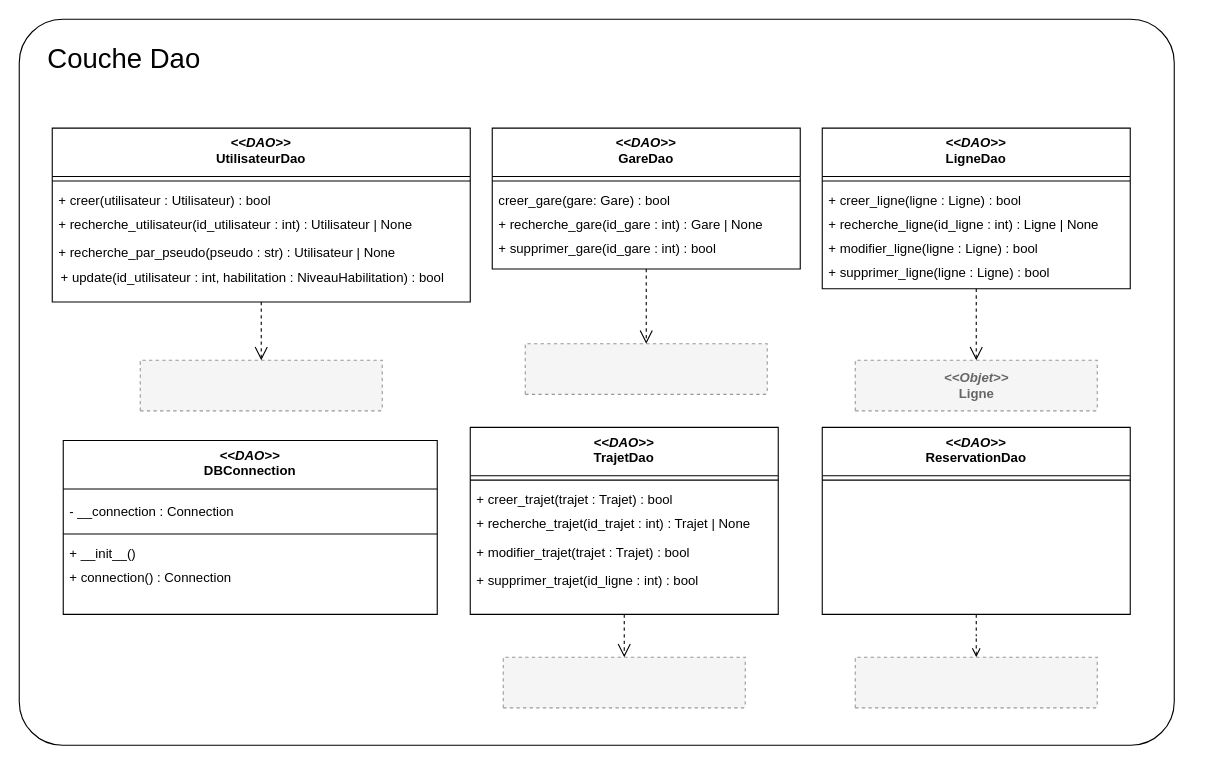
Image size: 1216x765. Some labels were removed from this diagram. The centre of each missing label's shape, as x and y in pixels:
"<<Objet>> Gare" belongs at point (645, 368).
"<<Objet>> Reservation" belongs at point (975, 682).
"<<Objet>> Trajet" belongs at point (623, 682).
"<<Objet>> Utilisateur" belongs at point (260, 385).
